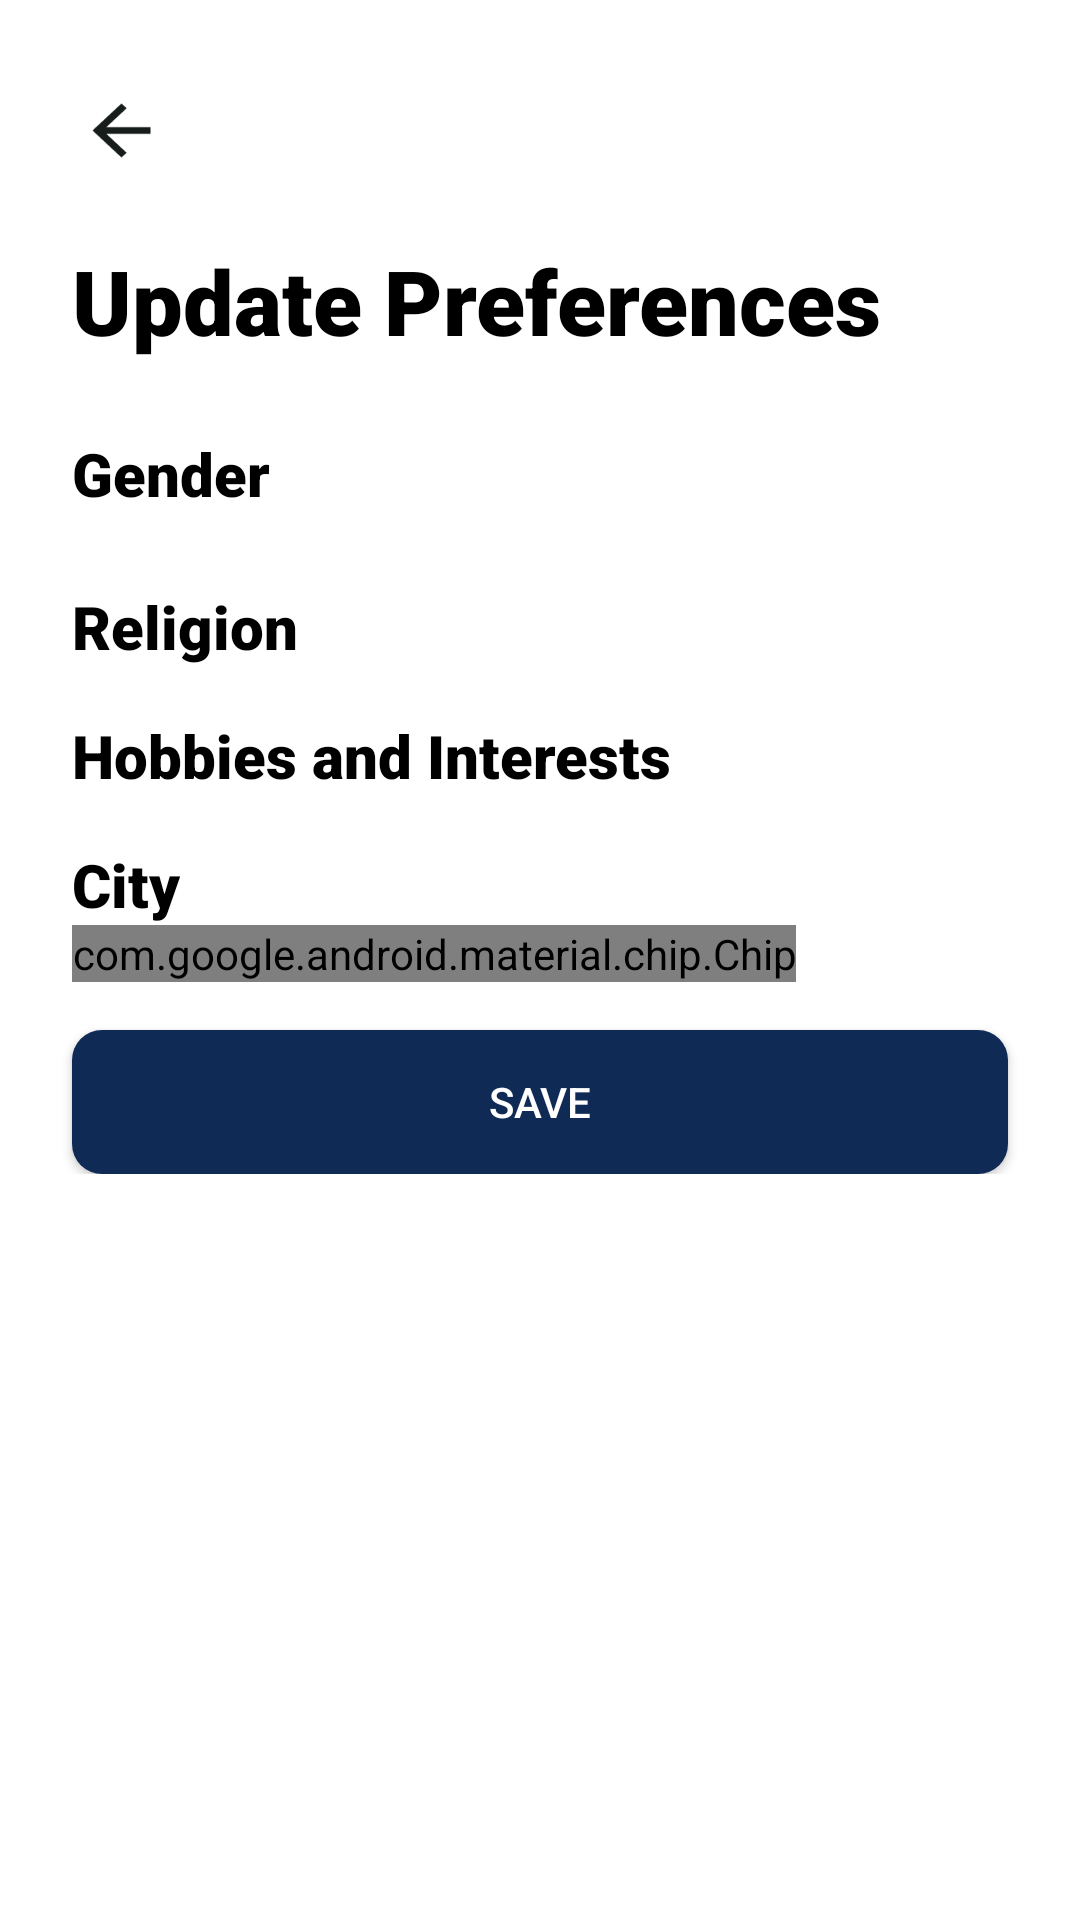

Where icons sit on this 1080 x 1920 app screen, as (x1, y1, x2, y2):
Back: (92, 103, 151, 158)
